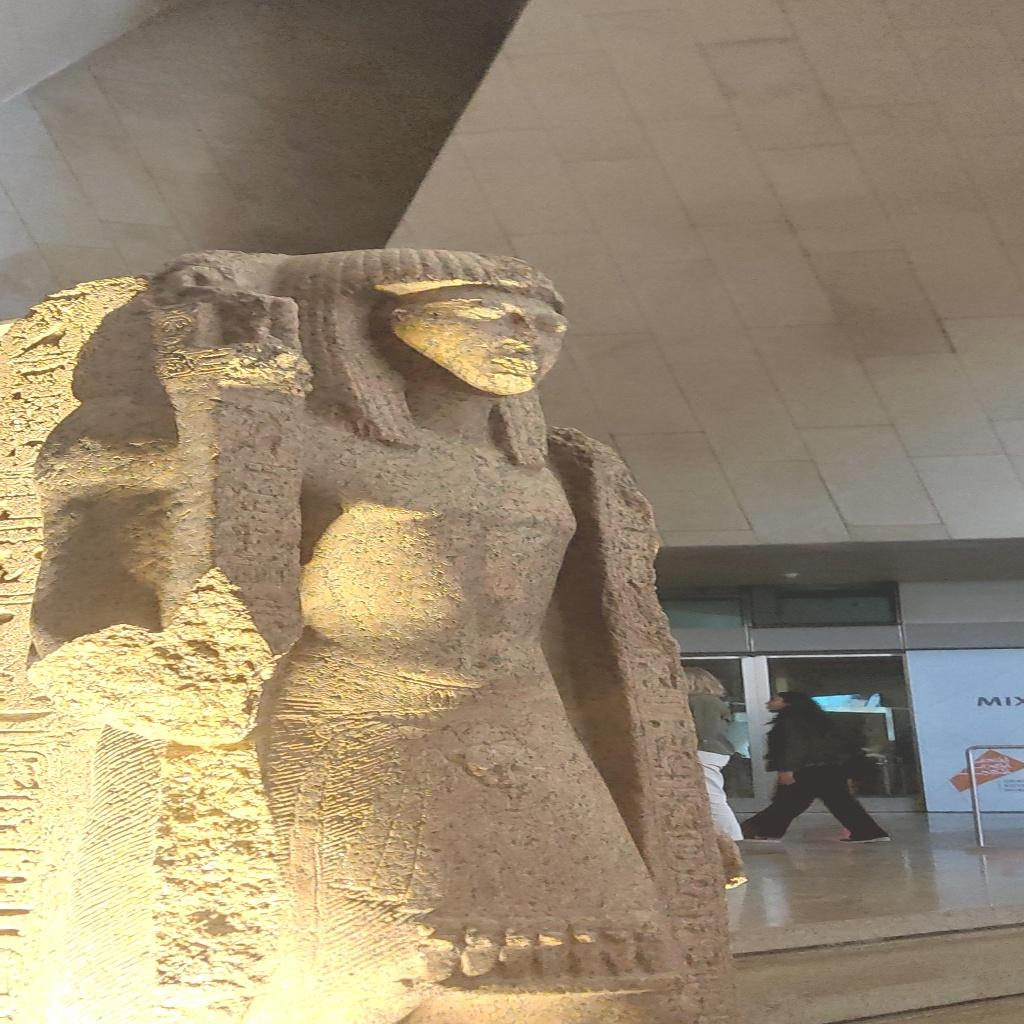Statue of Merenptah as standard Bearer: (14, 244, 686, 1020)
